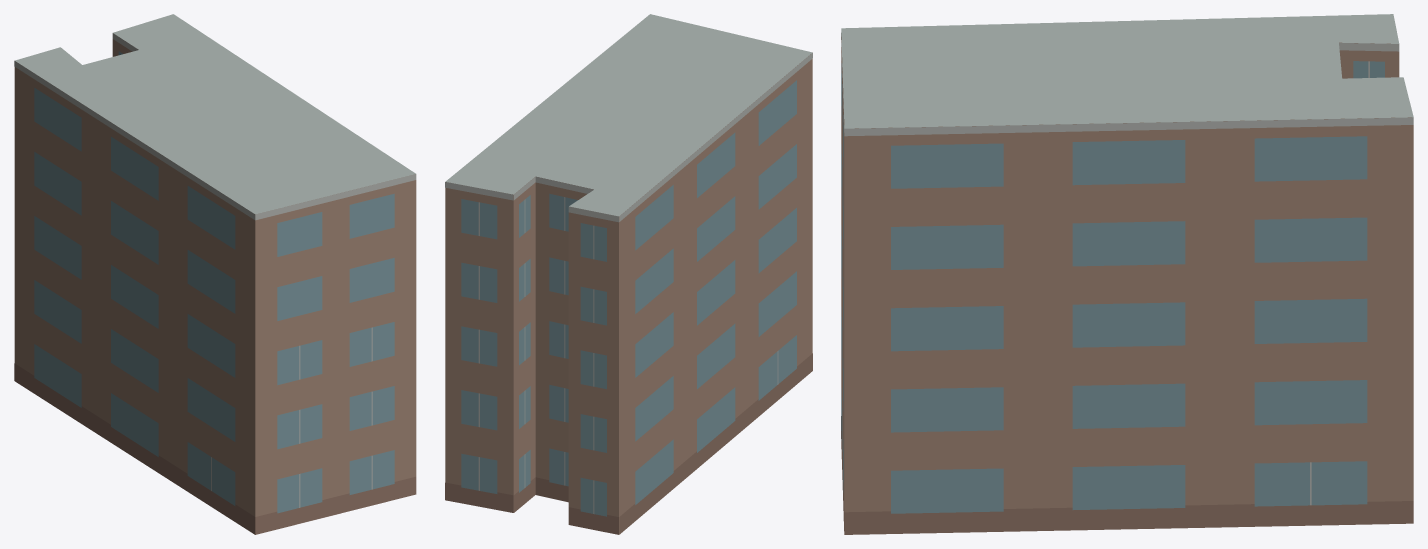
File: survey-upis-32919676.glb
The picture shows the model from 3 angles, left to right: view 1: azimuth 30°, elevation 25°; view 2: azimuth 150°, elevation 25°; view 3: azimuth 270°, elevation 25°; orthographic projection. The views are drawn at different scales.
Visible parts, largest first — view 1: survey-upis-32919676.tmp; view 2: survey-upis-32919676.tmp; view 3: survey-upis-32919676.tmp.
Boxes of the visible parts, x1,y1,x2,y2 form: survey-upis-32919676.tmp: (14,14,416,534); survey-upis-32919676.tmp: (445,14,812,534); survey-upis-32919676.tmp: (841,14,1413,534).
Bounding box in the file's own units: 7.94 × 13.1 × 16.75.
